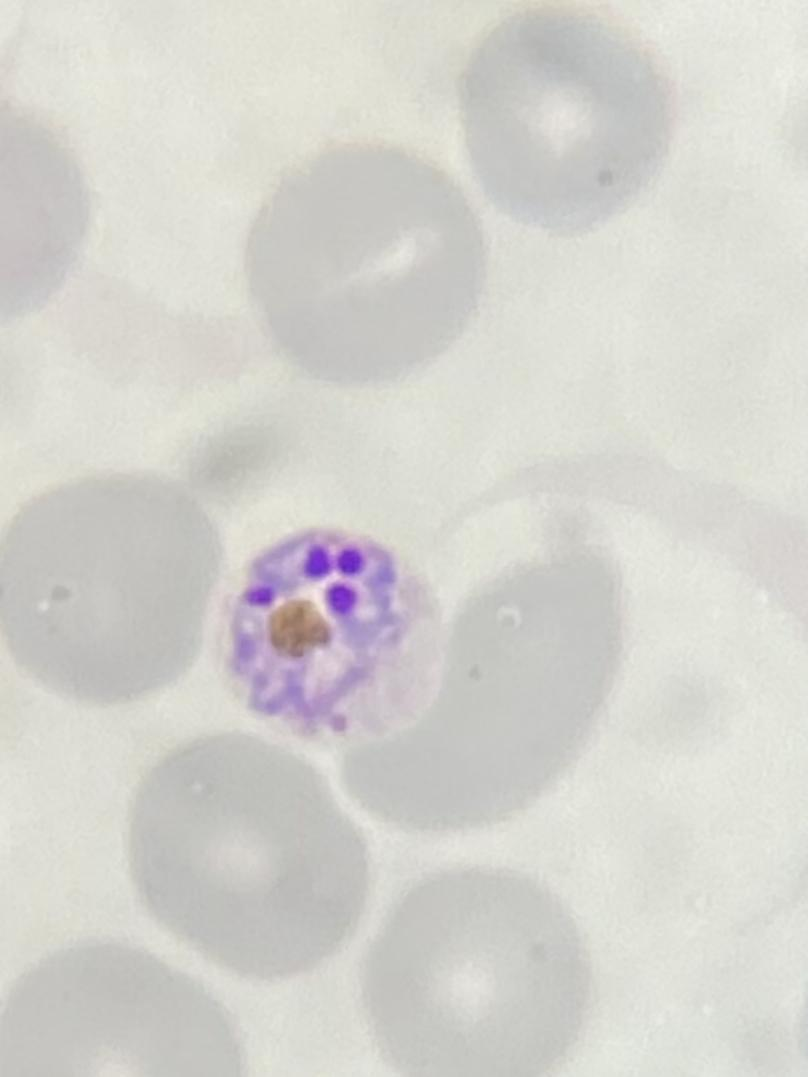Infected: (217, 527, 440, 740)
Uninfected: (339, 545, 620, 834), (126, 735, 365, 978), (246, 145, 485, 383), (0, 475, 219, 707), (357, 867, 587, 1075), (460, 18, 666, 239), (0, 942, 255, 1074)
